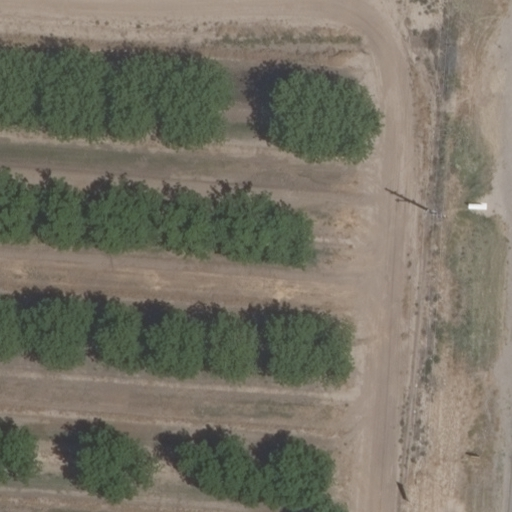DT: (426, 203, 439, 223)
